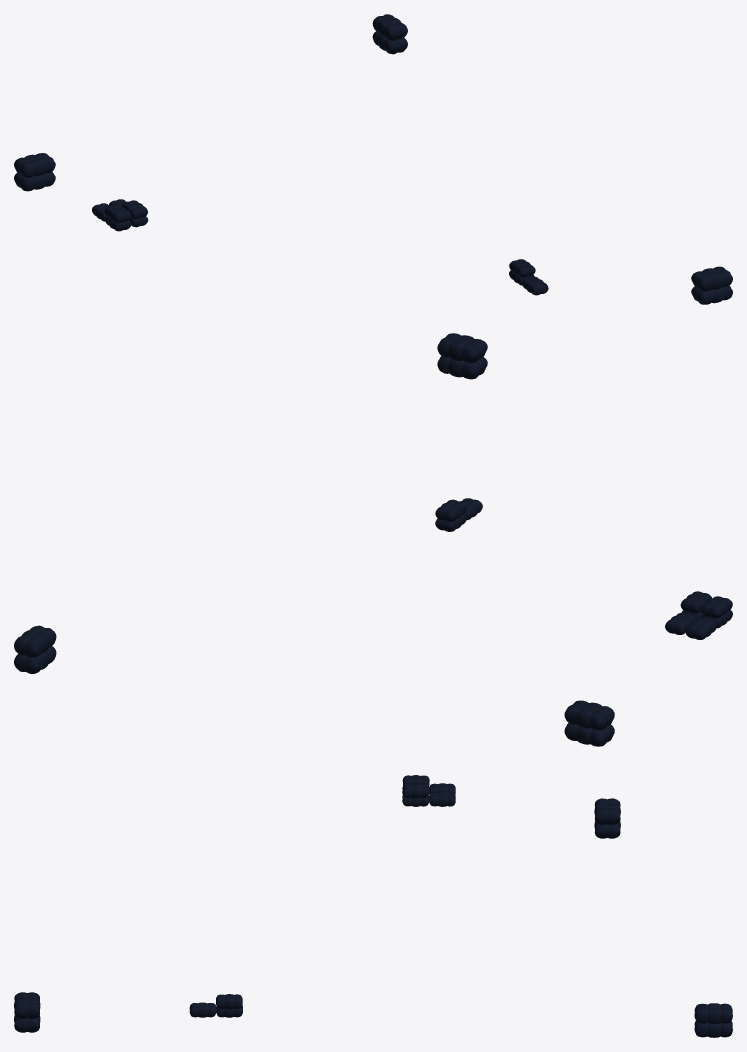
The model's file is bungkus.fbx.
3 renders of one model, top to bottom at view 1: azimuth 30°, elevation 25°; view 2: azimuth 150°, elevation 25°; view 3: azimuth 270°, elevation 25°, orthographic. The views are drawn at different scales.
Visible parts, largest first — view 1: 10. bungkus; view 2: 10. bungkus; view 3: 10. bungkus.
Boxes of the visible parts, x1=… form: 10. bungkus: x1=14, y1=14, x2=732, y2=304; 10. bungkus: x1=14, y1=333, x2=732, y2=746; 10. bungkus: x1=14, y1=775, x2=732, y2=1037.
Bounding box in the file's own units: 1556 × 278 × 2185.
